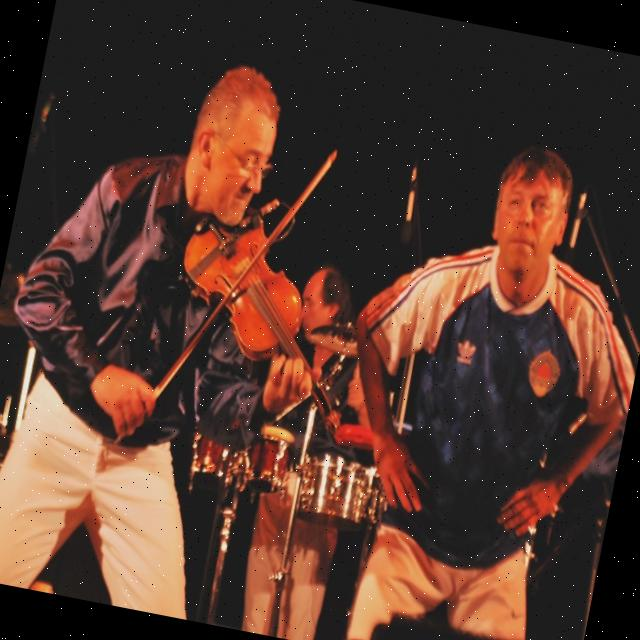violin: (149, 195, 384, 440)
